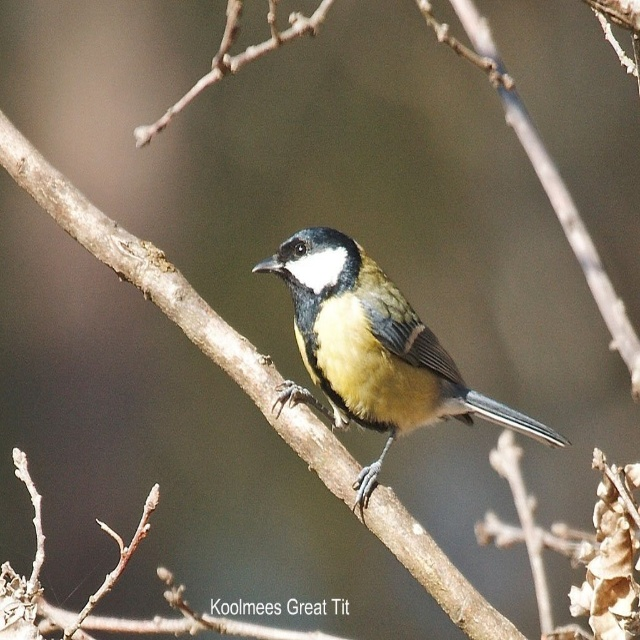Sparrow: (251, 227, 572, 516)
